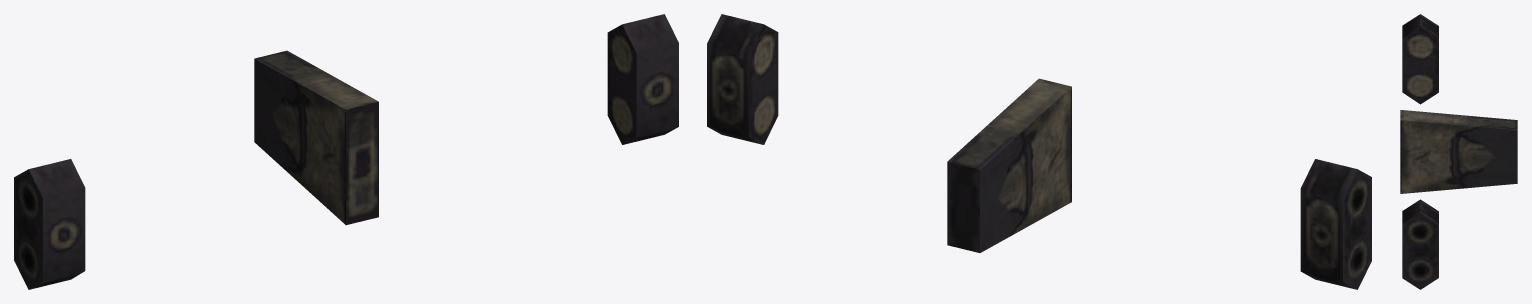
The picture shows the model from 3 angles, left to right: view 1: azimuth 30°, elevation 25°; view 2: azimuth 150°, elevation 25°; view 3: azimuth 270°, elevation 25°; orthographic projection. The views are drawn at different scales.
Parts seen in each view (by area): view 1: set_0_group_0; view 2: set_0_group_0; view 3: set_0_group_0.
Boxes of the visible parts, bbox=[...] form: set_0_group_0: bbox=[14, 14, 678, 289]; set_0_group_0: bbox=[707, 14, 1371, 289]; set_0_group_0: bbox=[1400, 14, 1517, 289].
Bounding box in the file's own units: 0.7111 × 0.1291 × 0.1777.
1 material, 1 textured.
